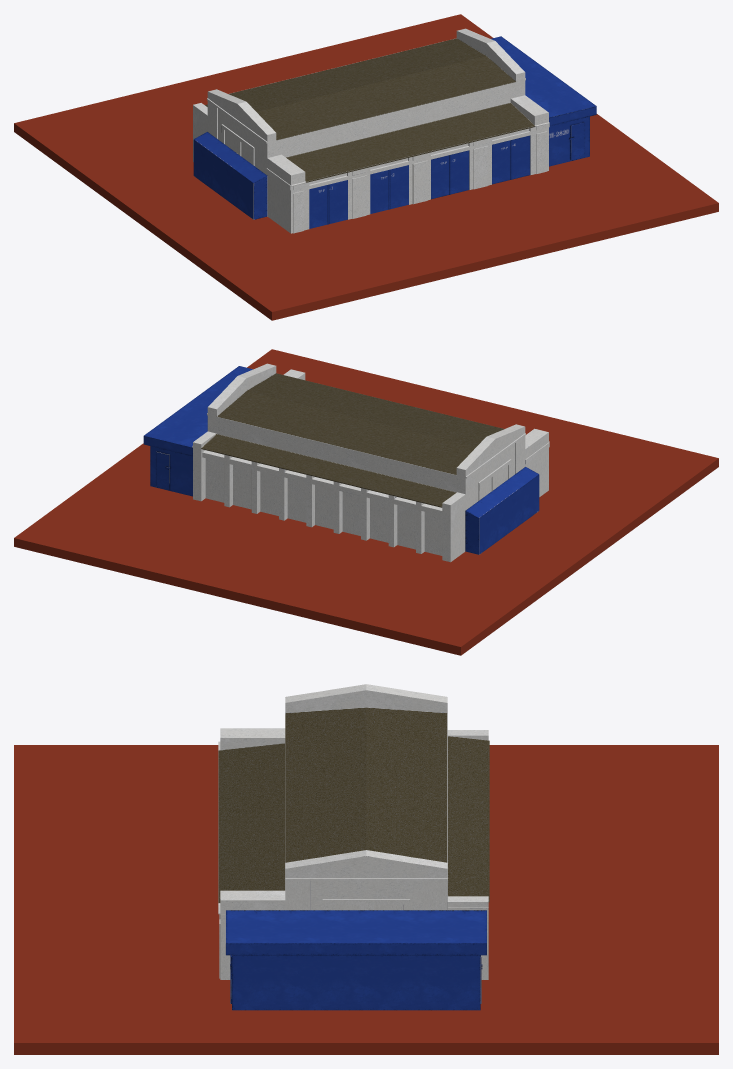
3 renders of one model, top to bottom at view 1: azimuth 30°, elevation 25°; view 2: azimuth 150°, elevation 25°; view 3: azimuth 270°, elevation 25°, orthographic. The views are drawn at different scales.
Parts seen in each view (by area): view 1: Cube.031, Cube, Cube.004, Cube.003; view 2: Cube.031, Cube, Cube.003; view 3: Cube.031, Cube, Cube.003.
Boxes of the visible parts, x1=… form: Cube.031: x1=14, y1=14, x2=718, y2=320; Cube: x1=193, y1=28, x2=584, y2=233; Cube.004: x1=309, y1=135, x2=530, y2=228; Cube.003: x1=491, y1=36, x2=596, y2=166; Cube.031: x1=14, y1=349, x2=718, y2=655; Cube: x1=156, y1=363, x2=549, y2=562; Cube.003: x1=143, y1=366, x2=252, y2=496; Cube.031: x1=14, y1=745, x2=718, y2=1054; Cube: x1=218, y1=684, x2=489, y2=1003; Cube.003: x1=225, y1=910, x2=486, y2=1010.
Bounding box in the file's own units: 20.31 × 4.31 × 20.31.
4 materials, 3 textured.
